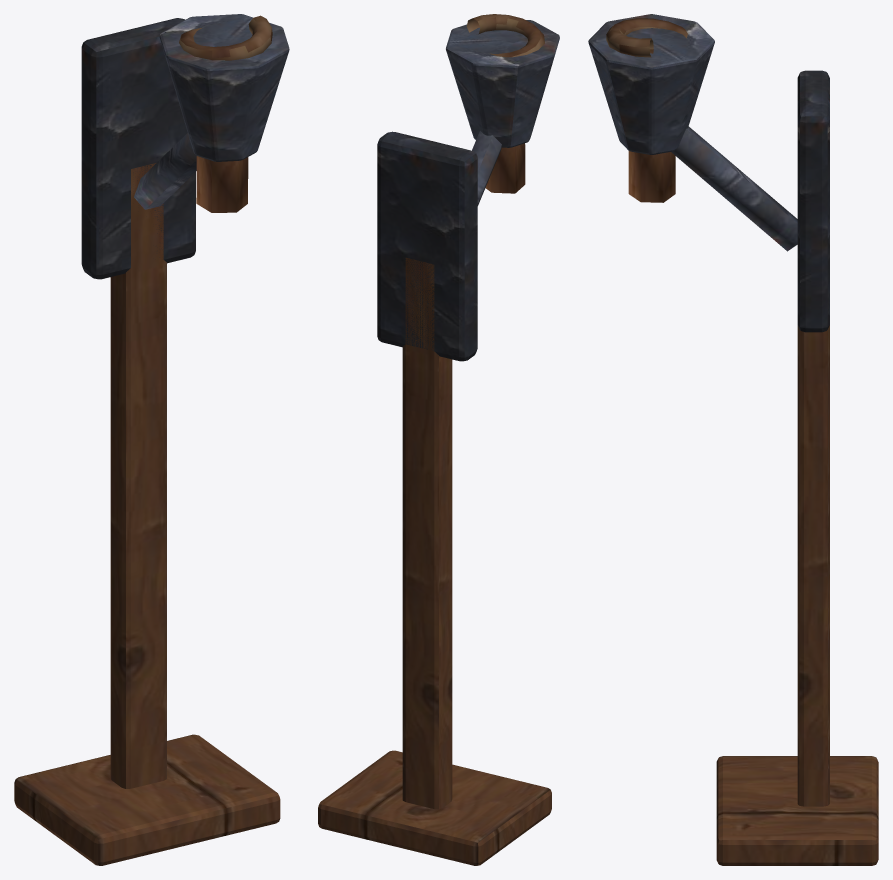
File: wall_torch.glb
The picture shows the model from 3 angles, left to right: view 1: azimuth 30°, elevation 25°; view 2: azimuth 150°, elevation 25°; view 3: azimuth 270°, elevation 25°; orthographic projection. The views are drawn at different scales.
Visible parts, largest first — view 1: model; view 2: model; view 3: model.
Part boxes in pixels (x1,y1,x2,y2): model: (14,14,289,865); model: (318,14,559,865); model: (588,14,878,865).
Bounding box in the file's own units: 0.25 × 1.1 × 0.3581.
5 materials, 5 textured.
